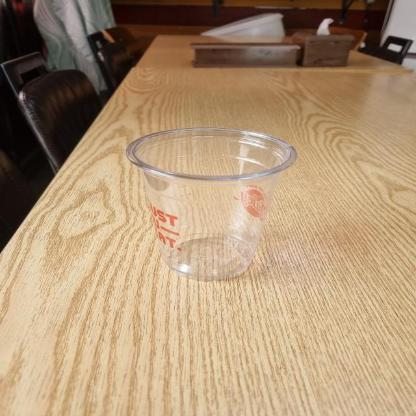Plastic Cup: (126, 128, 300, 280)
